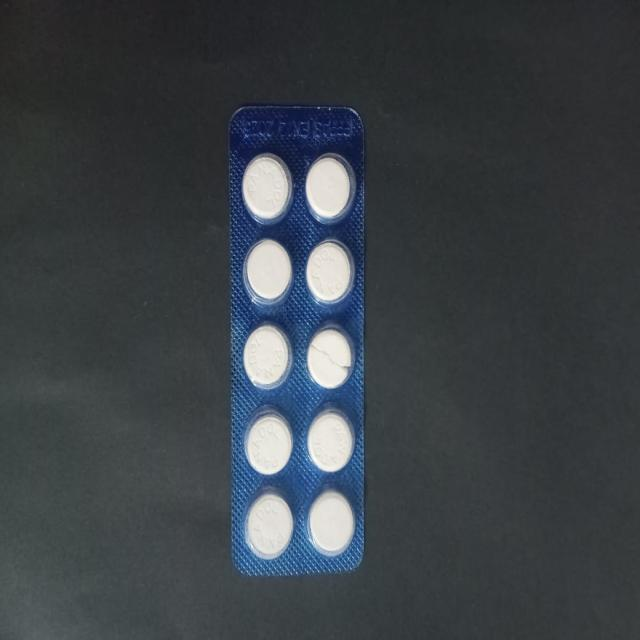defect: (305, 321, 358, 392)
